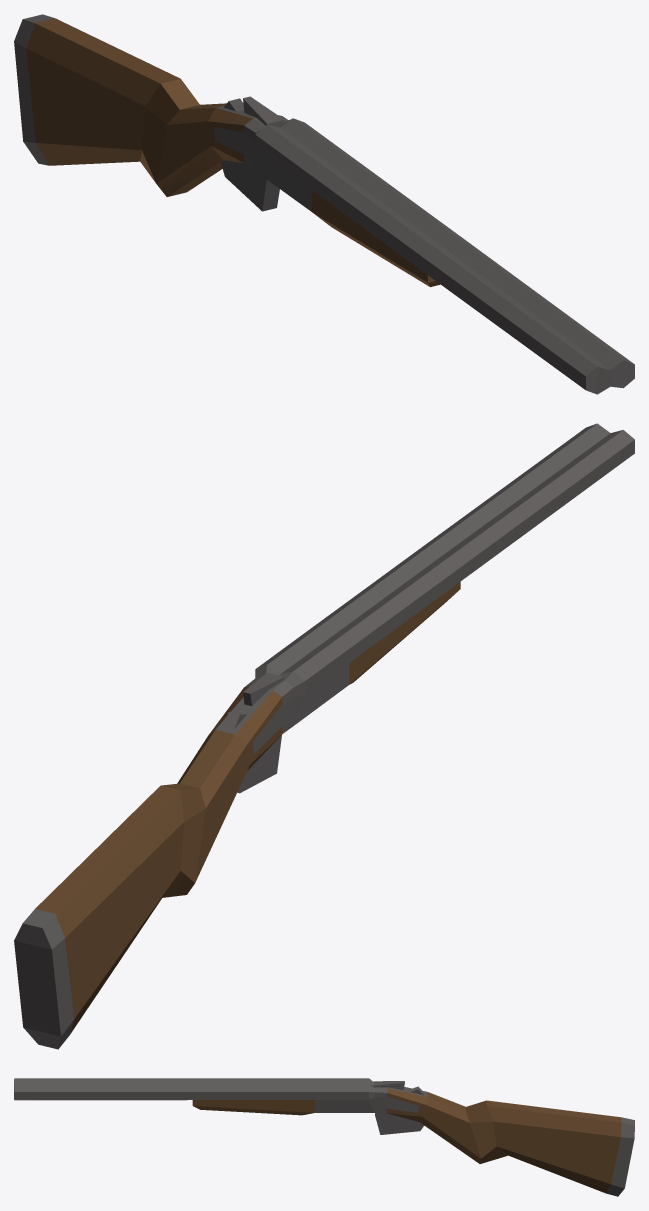
File: SM_Shotgun_DoubleBarrel.fbx
3 views of the same model, one above another, from view 1: azimuth 30°, elevation 25°; view 2: azimuth 150°, elevation 25°; view 3: azimuth 270°, elevation 25° (orthographic). The views are drawn at different scales.
Parts seen in each view (by area): view 1: SM_Shotgun_DoubleBarrel; view 2: SM_Shotgun_DoubleBarrel; view 3: SM_Shotgun_DoubleBarrel.
Part boxes in pixels (x1=…): SM_Shotgun_DoubleBarrel: x1=14, y1=14, x2=634, y2=394; SM_Shotgun_DoubleBarrel: x1=14, y1=423, x2=634, y2=1049; SM_Shotgun_DoubleBarrel: x1=14, y1=1078, x2=634, y2=1196.
Bounding box in the file's own units: 0.0492 × 0.1987 × 0.9938.
